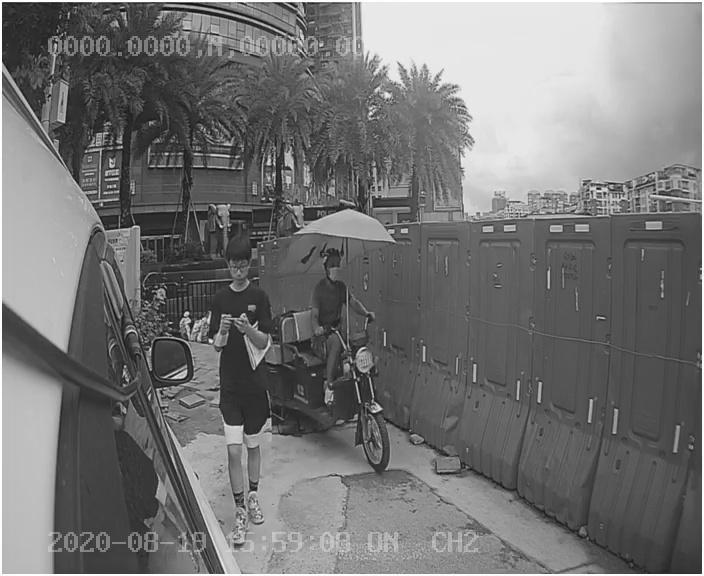person: (198, 236, 291, 532)
